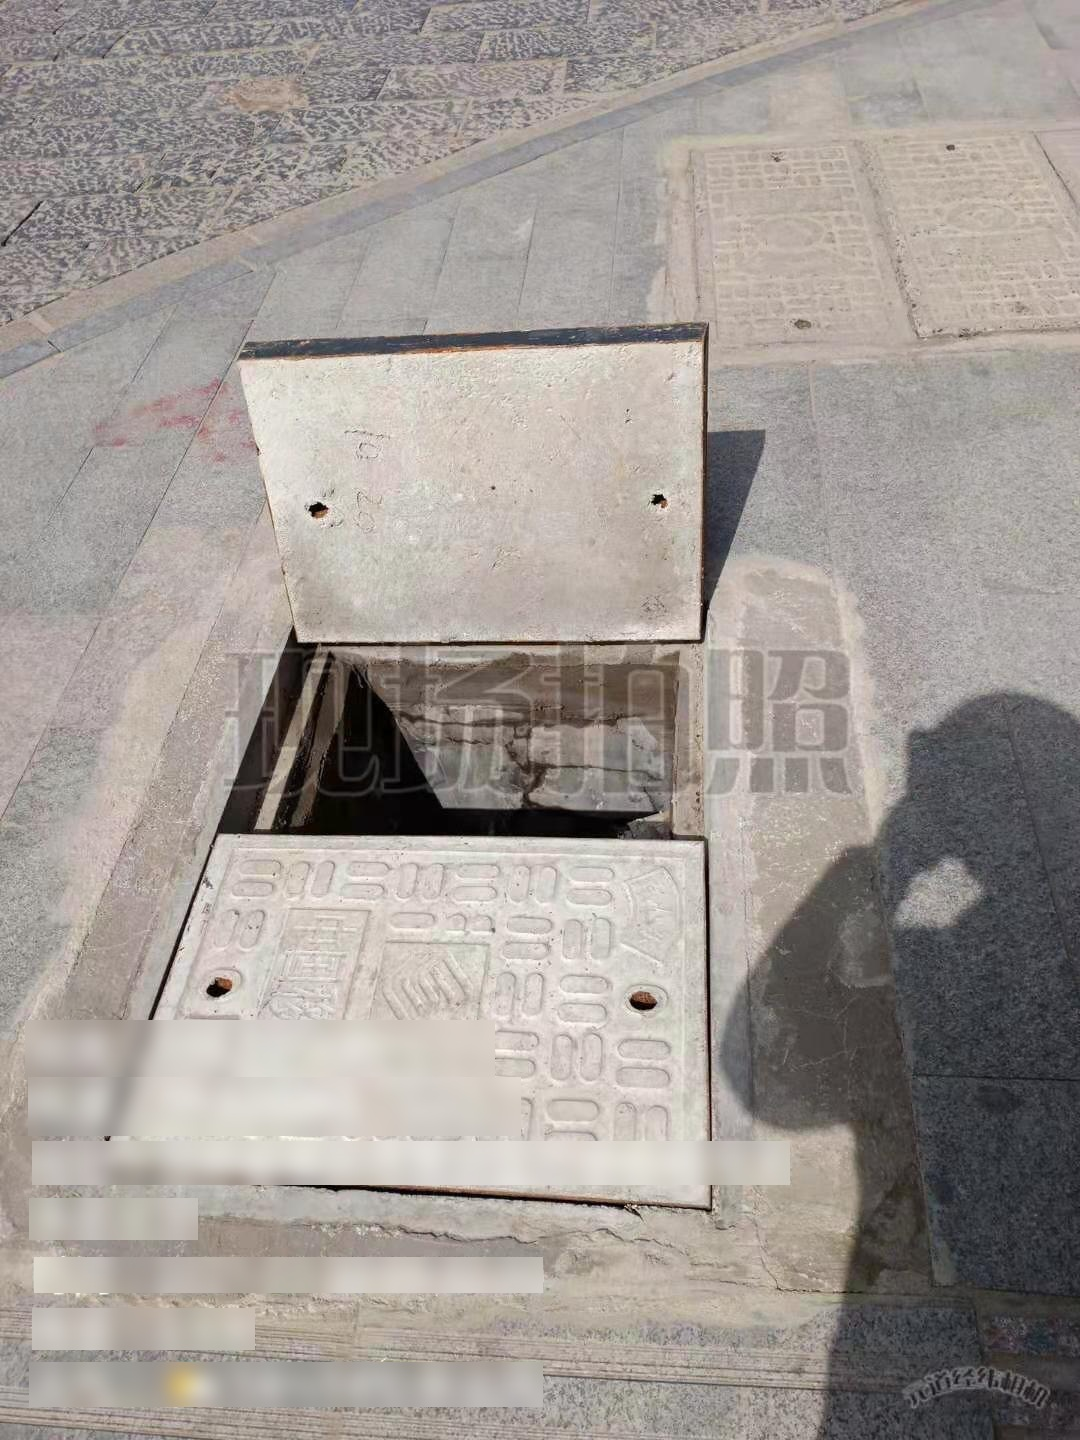well: (100, 298, 741, 1254)
